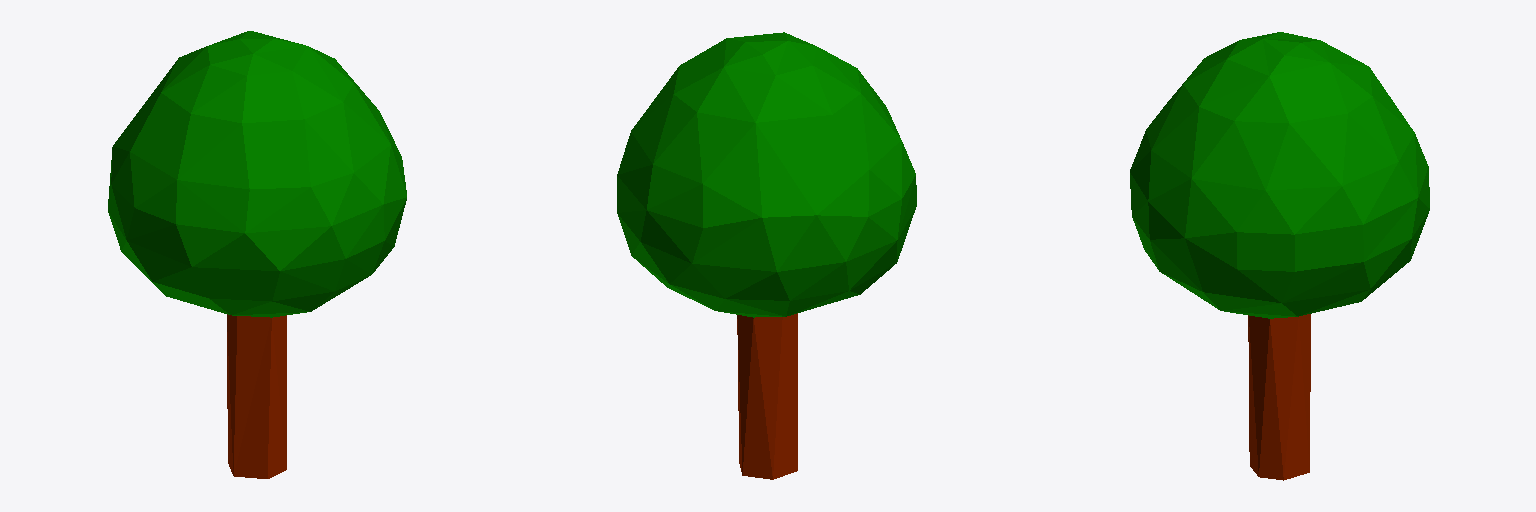
The model's file is Baum_lowPoly.obj.
3 renders of one model, left to right at view 1: azimuth 30°, elevation 25°; view 2: azimuth 150°, elevation 25°; view 3: azimuth 270°, elevation 25°, orthographic.
Visible parts, largest first — view 1: Circle; view 2: Circle; view 3: Circle.
Boxes of the visible parts, x1,y1,x2,y2 form: Circle: [108, 31, 406, 478]; Circle: [617, 32, 916, 479]; Circle: [1130, 32, 1429, 480].
Size of the model in its own units: 6.6 by 10.31 by 6.65.